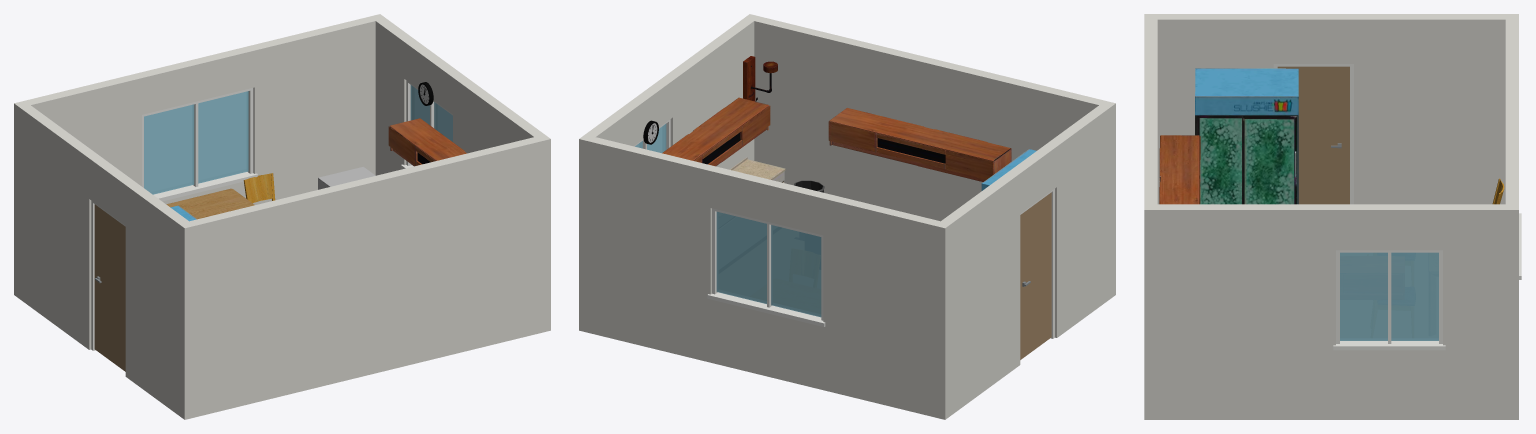
File: holodeck.glb
3 renders of one model, left to right at view 1: azimuth 30°, elevation 25°; view 2: azimuth 150°, elevation 25°; view 3: azimuth 270°, elevation 25°, orthographic. The views are drawn at different scales.
Visible parts, largest first — view 1: wall|scenesmith_093__R00|0, wall|scenesmith_093__R00|1, wall|scenesmith_093__R00|2, wall|scenesmith_093__R00|3, wall|scenesmith_093__R00|1 Window 0 | glazing, wall|scenesmith_093__R00|2 Door 0 | wood leaf, scenesmith_093__R00_10, wall|scenesmith_093__R00|1 Window 0 | jamb, scenesmith_093__R00_4, wall|scenesmith_093__R00|3 Window 0 | glazing, scenesmith_093__R00_5, scenesmith_093__R00_3 (+1 smaller); view 2: wall|scenesmith_093__R00|1, wall|scenesmith_093__R00|0, wall|scenesmith_093__R00|2, wall|scenesmith_093__R00|3, scenesmith_093__R00_10, wall|scenesmith_093__R00|1 Window 0 | glazing, wall|scenesmith_093__R00|2 Door 0 | wood leaf, wall|scenesmith_093__R00|1 Window 0 | jamb, scenesmith_093__R00_13, scenesmith_093__R00_1, wall|scenesmith_093__R00|2 Door 0 | jamb; view 3: wall|scenesmith_093__R00|3, wall|scenesmith_093__R00|2, scenesmith_093__R00_2, wall|scenesmith_093__R00|3 Window 0 | glazing, wall|scenesmith_093__R00|2 Door 0 | wood leaf, wall|scenesmith_093__R00|0, wall|scenesmith_093__R00|1, scenesmith_093__R00_10, wall|scenesmith_093__R00|3 Window 0 | jamb, wall|scenesmith_093__R00|2 Door 0 | jamb.
Boxes of the visible parts, box(x1,y1,x2,y2) form: wall|scenesmith_093__R00|0: box(184, 134, 550, 419); wall|scenesmith_093__R00|1: box(25, 16, 375, 204); wall|scenesmith_093__R00|2: box(14, 101, 195, 419); wall|scenesmith_093__R00|3: box(370, 14, 550, 332); wall|scenesmith_093__R00|1 Window 0 | glazing: box(144, 91, 248, 194); wall|scenesmith_093__R00|2 Door 0 | wood leaf: box(94, 204, 125, 371); scenesmith_093__R00_10: box(388, 118, 466, 166); wall|scenesmith_093__R00|1 Window 0 | jamb: box(142, 88, 257, 201); scenesmith_093__R00_4: box(166, 188, 254, 219); wall|scenesmith_093__R00|3 Window 0 | glazing: box(410, 85, 452, 164); scenesmith_093__R00_5: box(243, 173, 275, 203); scenesmith_093__R00_3: box(318, 166, 375, 189); wall|scenesmith_093__R00|1: box(589, 137, 939, 417); wall|scenesmith_093__R00|0: box(744, 14, 1104, 221); wall|scenesmith_093__R00|2: box(934, 101, 1115, 419); wall|scenesmith_093__R00|3: box(579, 14, 759, 332); scenesmith_093__R00_10: box(662, 97, 1011, 181); wall|scenesmith_093__R00|1 Window 0 | glazing: box(716, 211, 821, 317); wall|scenesmith_093__R00|2 Door 0 | wood leaf: box(1020, 192, 1051, 359); wall|scenesmith_093__R00|1 Window 0 | jamb: box(707, 208, 825, 326); scenesmith_093__R00_13: box(743, 56, 777, 101); scenesmith_093__R00_1: box(730, 157, 785, 182); wall|scenesmith_093__R00|2 Door 0 | jamb: box(1020, 189, 1054, 338); wall|scenesmith_093__R00|3: box(1144, 204, 1518, 419); wall|scenesmith_093__R00|2: box(1144, 14, 1518, 204); scenesmith_093__R00_2: box(1195, 68, 1298, 204); wall|scenesmith_093__R00|3 Window 0 | glazing: box(1340, 252, 1438, 340); wall|scenesmith_093__R00|2 Door 0 | wood leaf: box(1277, 66, 1349, 204); wall|scenesmith_093__R00|0: box(1144, 19, 1157, 419); wall|scenesmith_093__R00|1: box(1505, 19, 1518, 419); scenesmith_093__R00_10: box(1159, 135, 1200, 204); wall|scenesmith_093__R00|3 Window 0 | jamb: box(1333, 250, 1445, 350); wall|scenesmith_093__R00|2 Door 0 | jamb: box(1273, 64, 1353, 204).
Bounding box in the file's own units: 5.23 × 2.61 × 4.23.
Materials: 16 (9 with a texture image).
